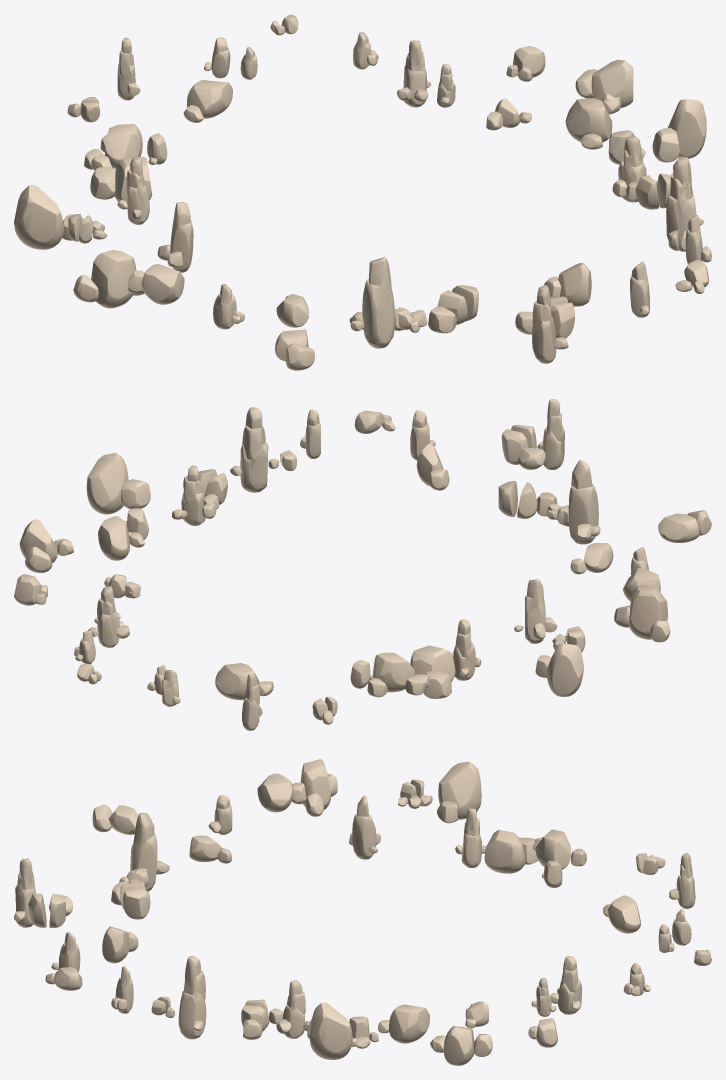
The model's file is run_horizon_rocks.glb.
The picture shows the model from 3 angles, top to bottom: view 1: azimuth 30°, elevation 25°; view 2: azimuth 150°, elevation 25°; view 3: azimuth 270°, elevation 25°; orthographic projection. The views are drawn at different scales.
Parts seen in each view (by area): view 1: run_horizon_rocks; view 2: run_horizon_rocks; view 3: run_horizon_rocks.
Boxes of the visible parts, x1,y1,x2,y2 form: run_horizon_rocks: [14, 14, 711, 370]; run_horizon_rocks: [14, 399, 711, 730]; run_horizon_rocks: [14, 759, 711, 1065].
Size of the model in its own units: 950 by 133 by 1027.
